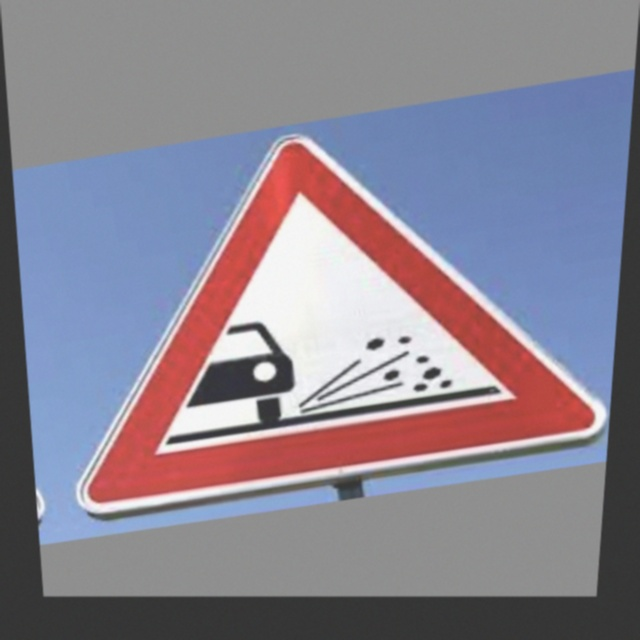Loose_Gravel: (52, 116, 600, 508)
